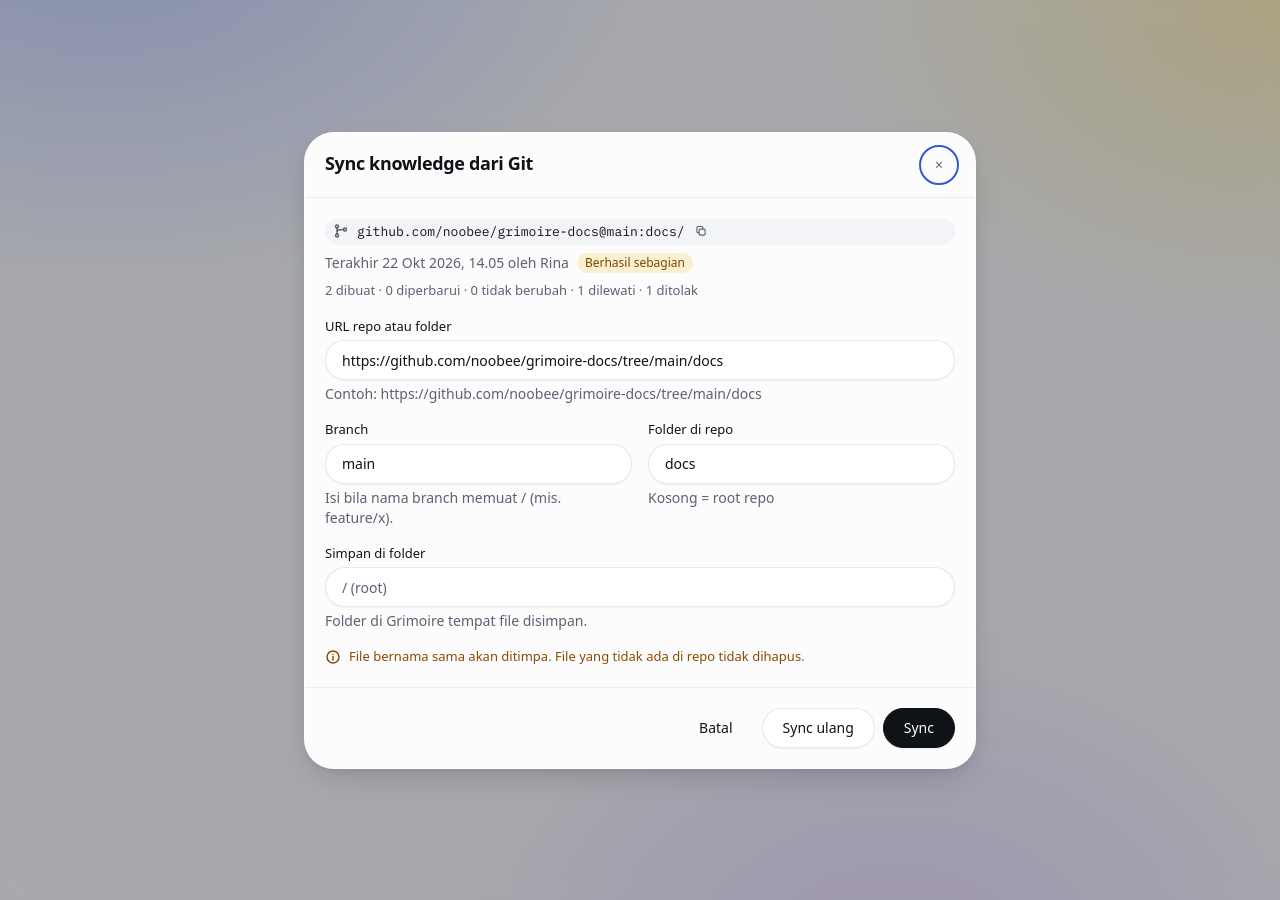
GitSyncDialog › Sync lagi returns to the filled form
Expected: the field showing "grimoire-docs" is shown, [325,340,955,380]
Click the button "Sync" at coordinates (919, 728), box [883,708,955,748]
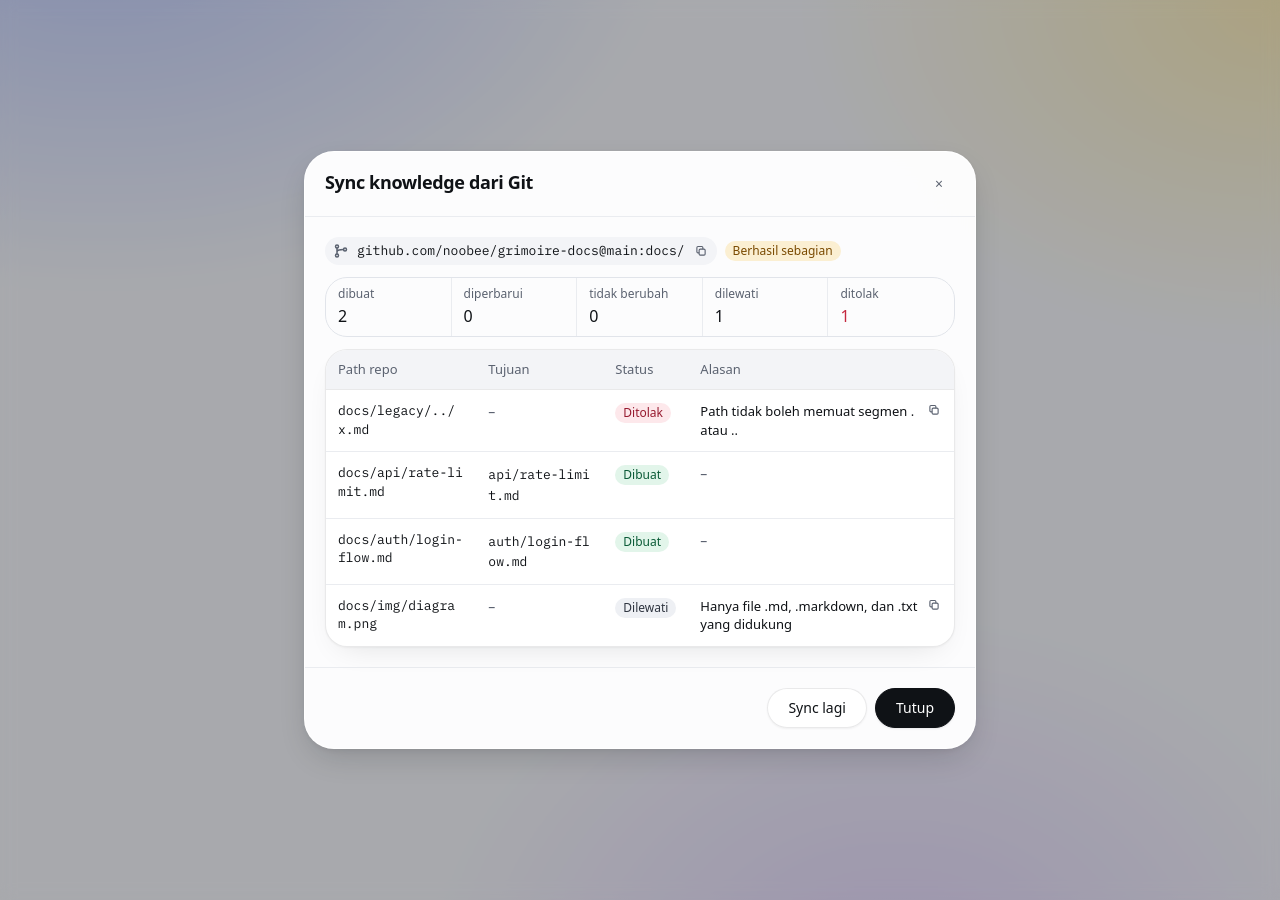
Expected: the text "docs/legacy/../x.md" is shown, [338,402,464,439]
Click the button "Sync lagi" at coordinates (817, 708), box [767,688,867,728]
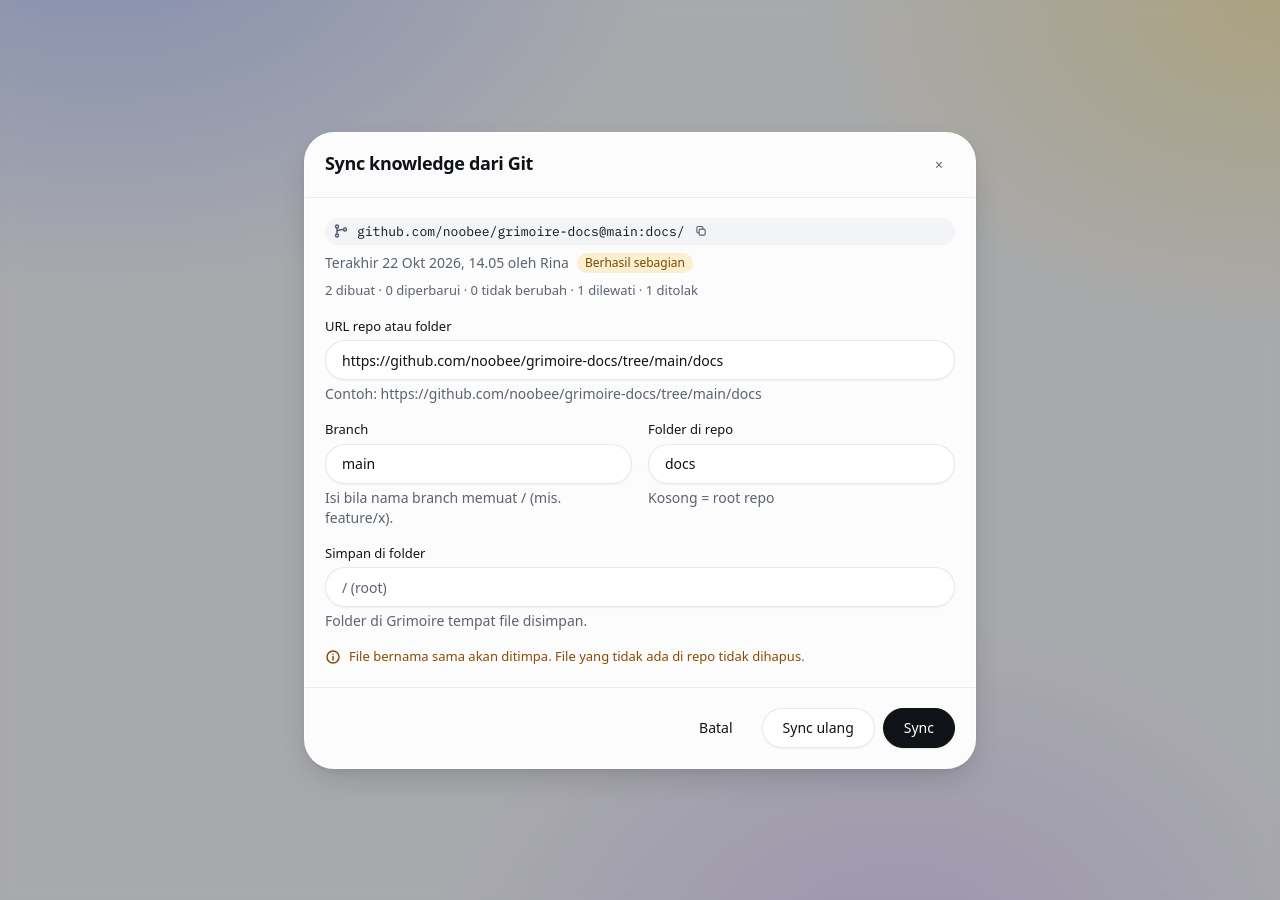
Expected: the field labelled "Branch" holds "main", [325,444,632,484]
